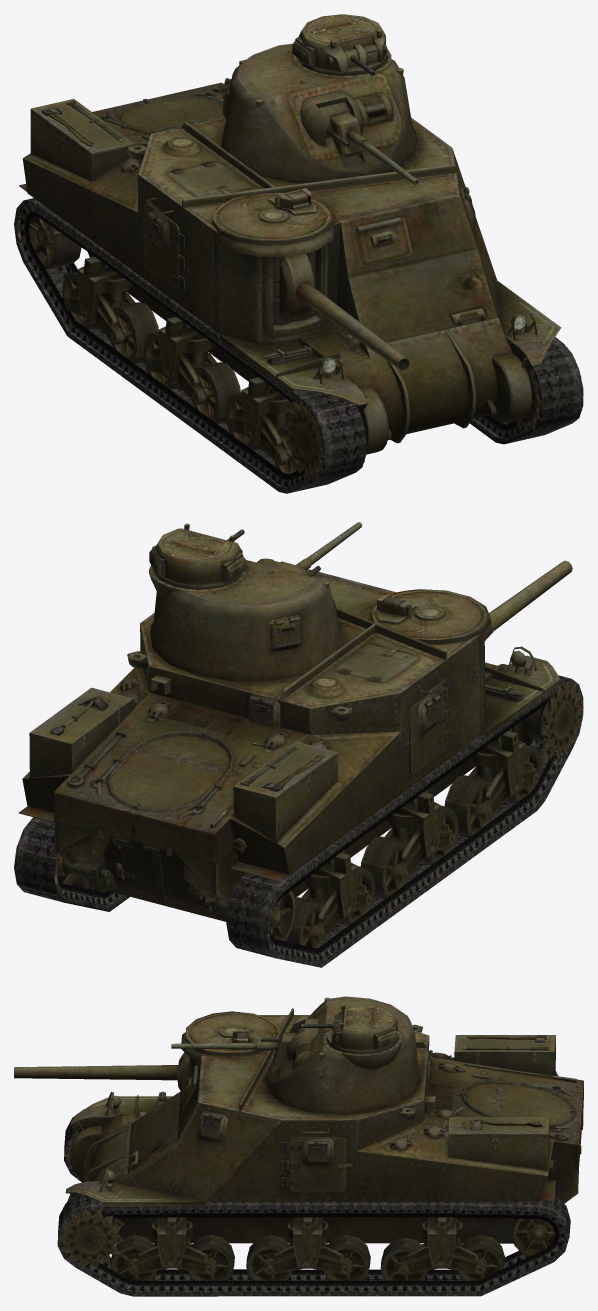
File: M3Grant.FBX
3 views of the same model, one above another, from view 1: azimuth 30°, elevation 25°; view 2: azimuth 150°, elevation 25°; view 3: azimuth 270°, elevation 25° (orthographic). The views are drawn at different scales.
Parts seen in each view (by area): view 1: 火炎格兰特; view 2: 火炎格兰特; view 3: 火炎格兰特.
Part boxes in pixels (<box>): 火炎格兰特: <box>14,14,583,493</box>; 火炎格兰特: <box>14,522,583,967</box>; 火炎格兰特: <box>14,996,583,1296</box>.
Bounding box in the file's own units: 1.47 × 1.57 × 3.12.
Materials: 2 (2 with a texture image).
